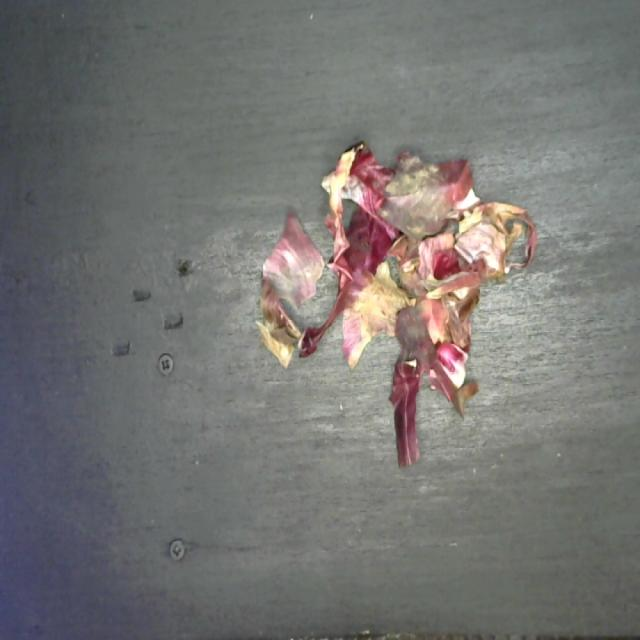biodegradable: (245, 140, 542, 476)
